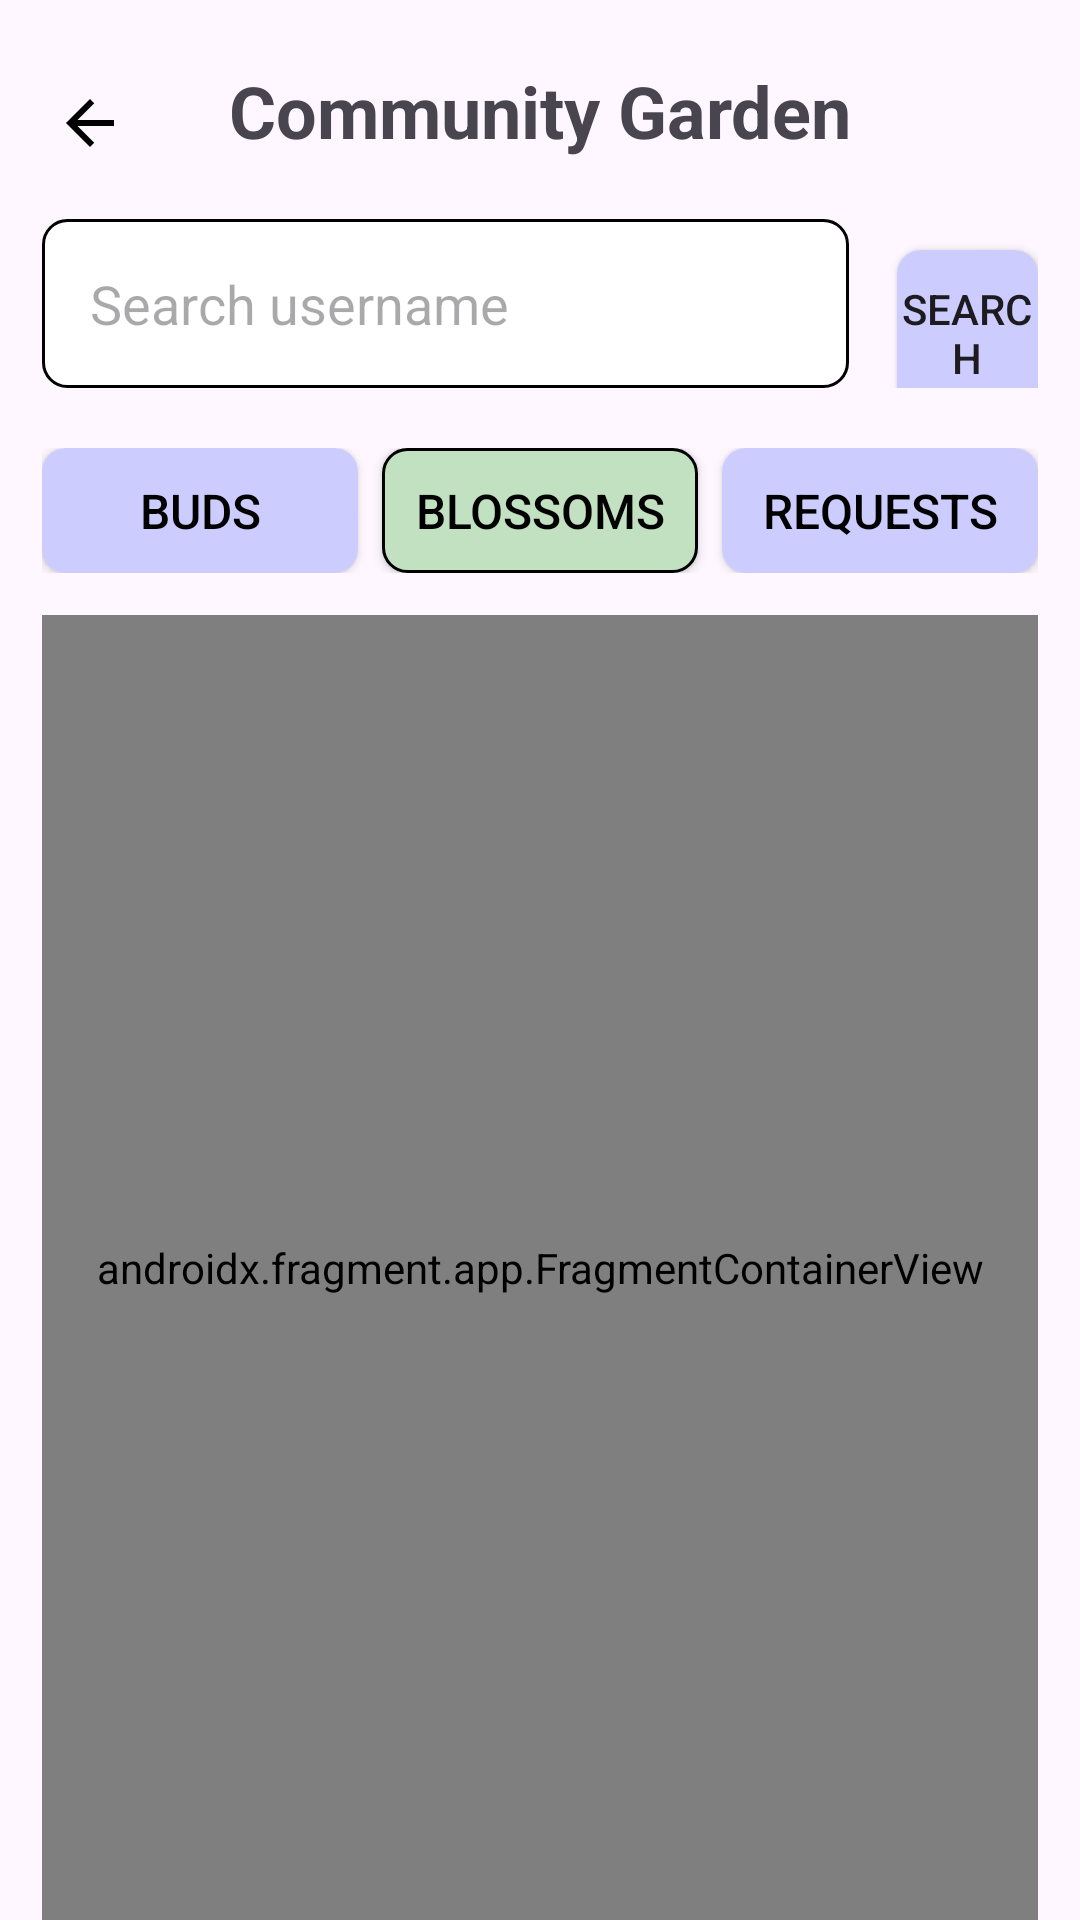

Screen size 1080*1920. Icon name, then its box in pixels as (x1, y1, x2, y2):
back arrow: (66, 99, 114, 147)
